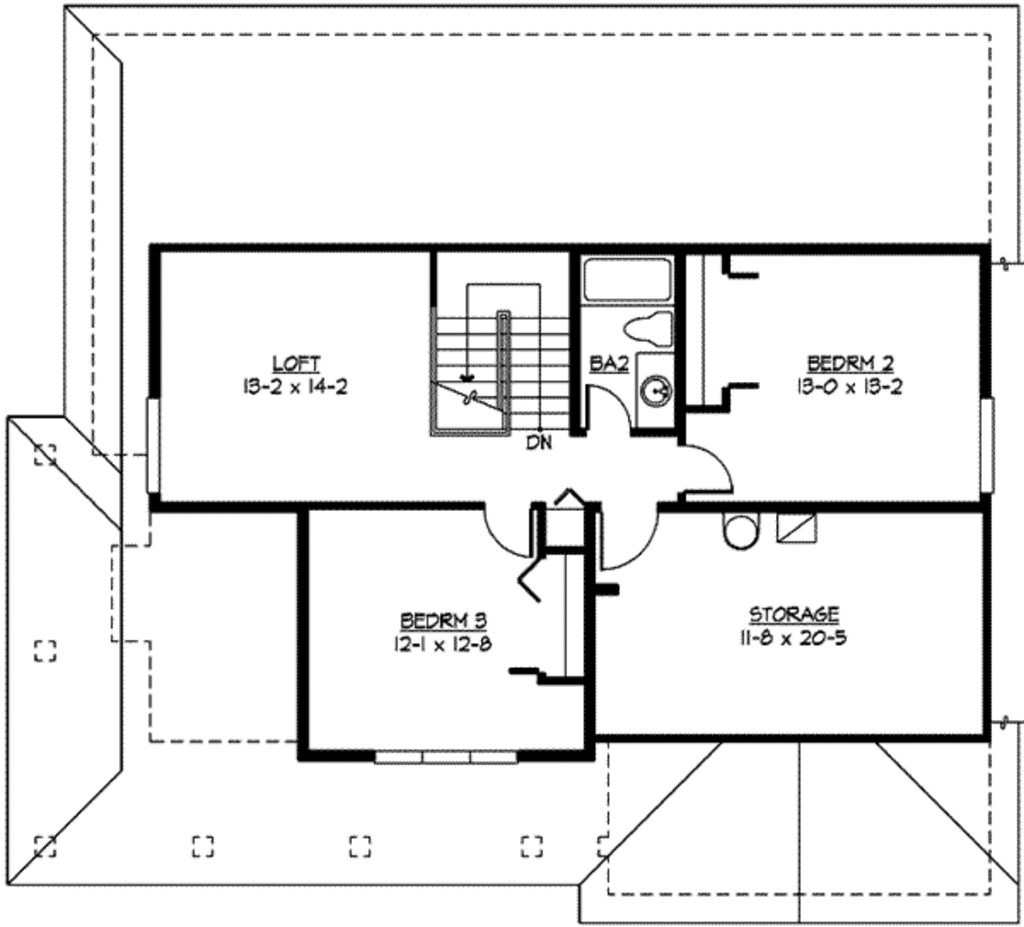door: (596, 494, 660, 572), (679, 442, 739, 503), (574, 377, 634, 436), (482, 504, 541, 563)
large_sink: (617, 310, 677, 358)
small_sink: (636, 351, 677, 432)
stairs: (427, 248, 579, 449)
tub: (577, 252, 677, 312)
window: (368, 745, 519, 767), (972, 393, 995, 500), (144, 400, 163, 491)
